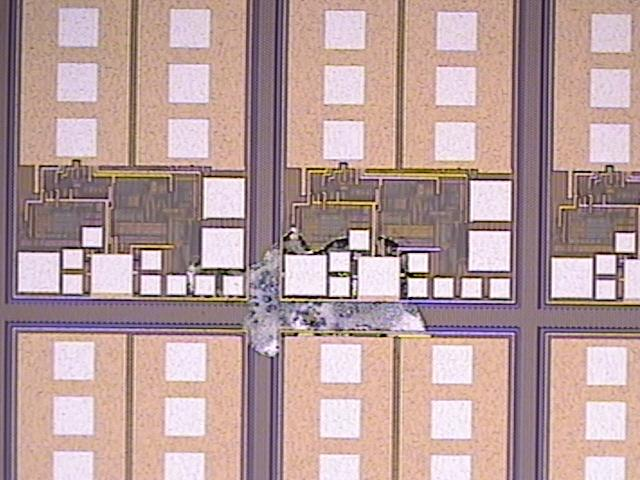BLOCK ETCH: (184, 226, 439, 361)
